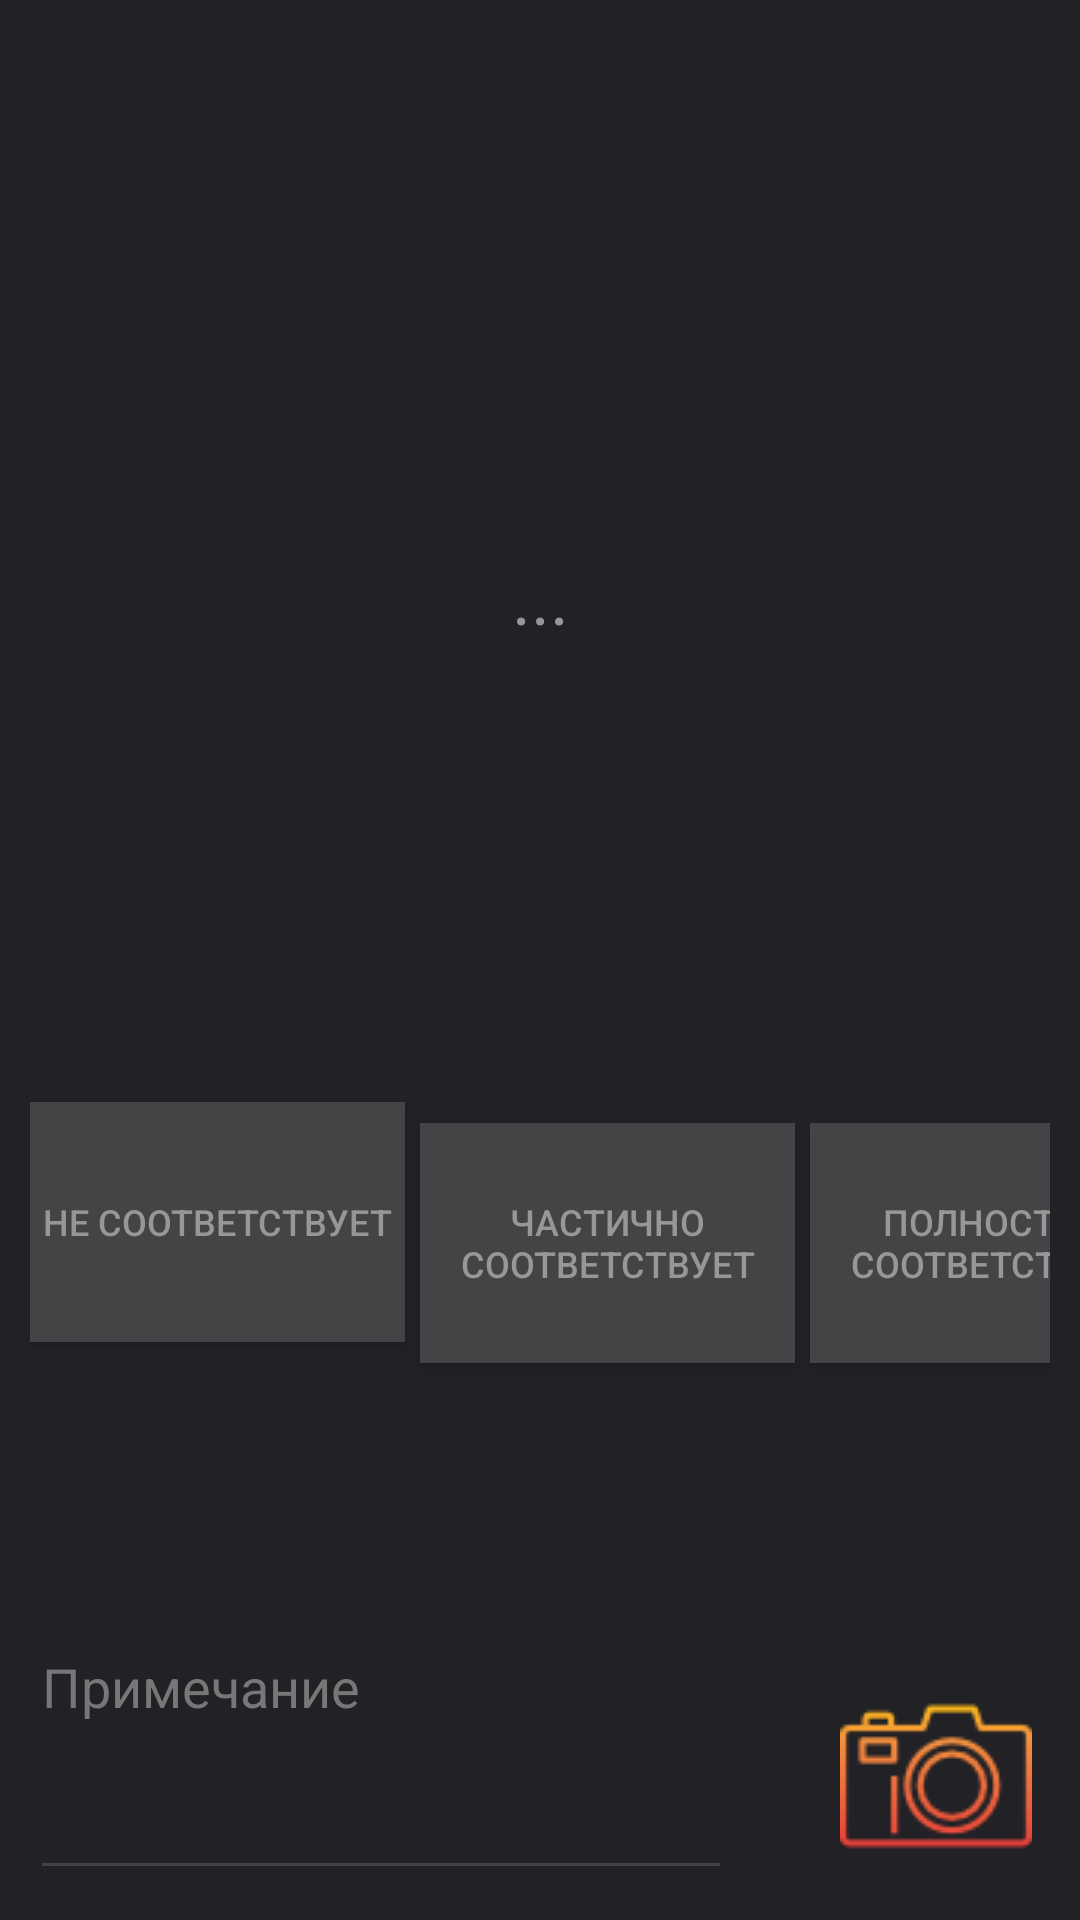

Named icons in this screenshot (1080 x 1920) and their centers, (x=x, y=y):
camera gold: (x=936, y=1776)
